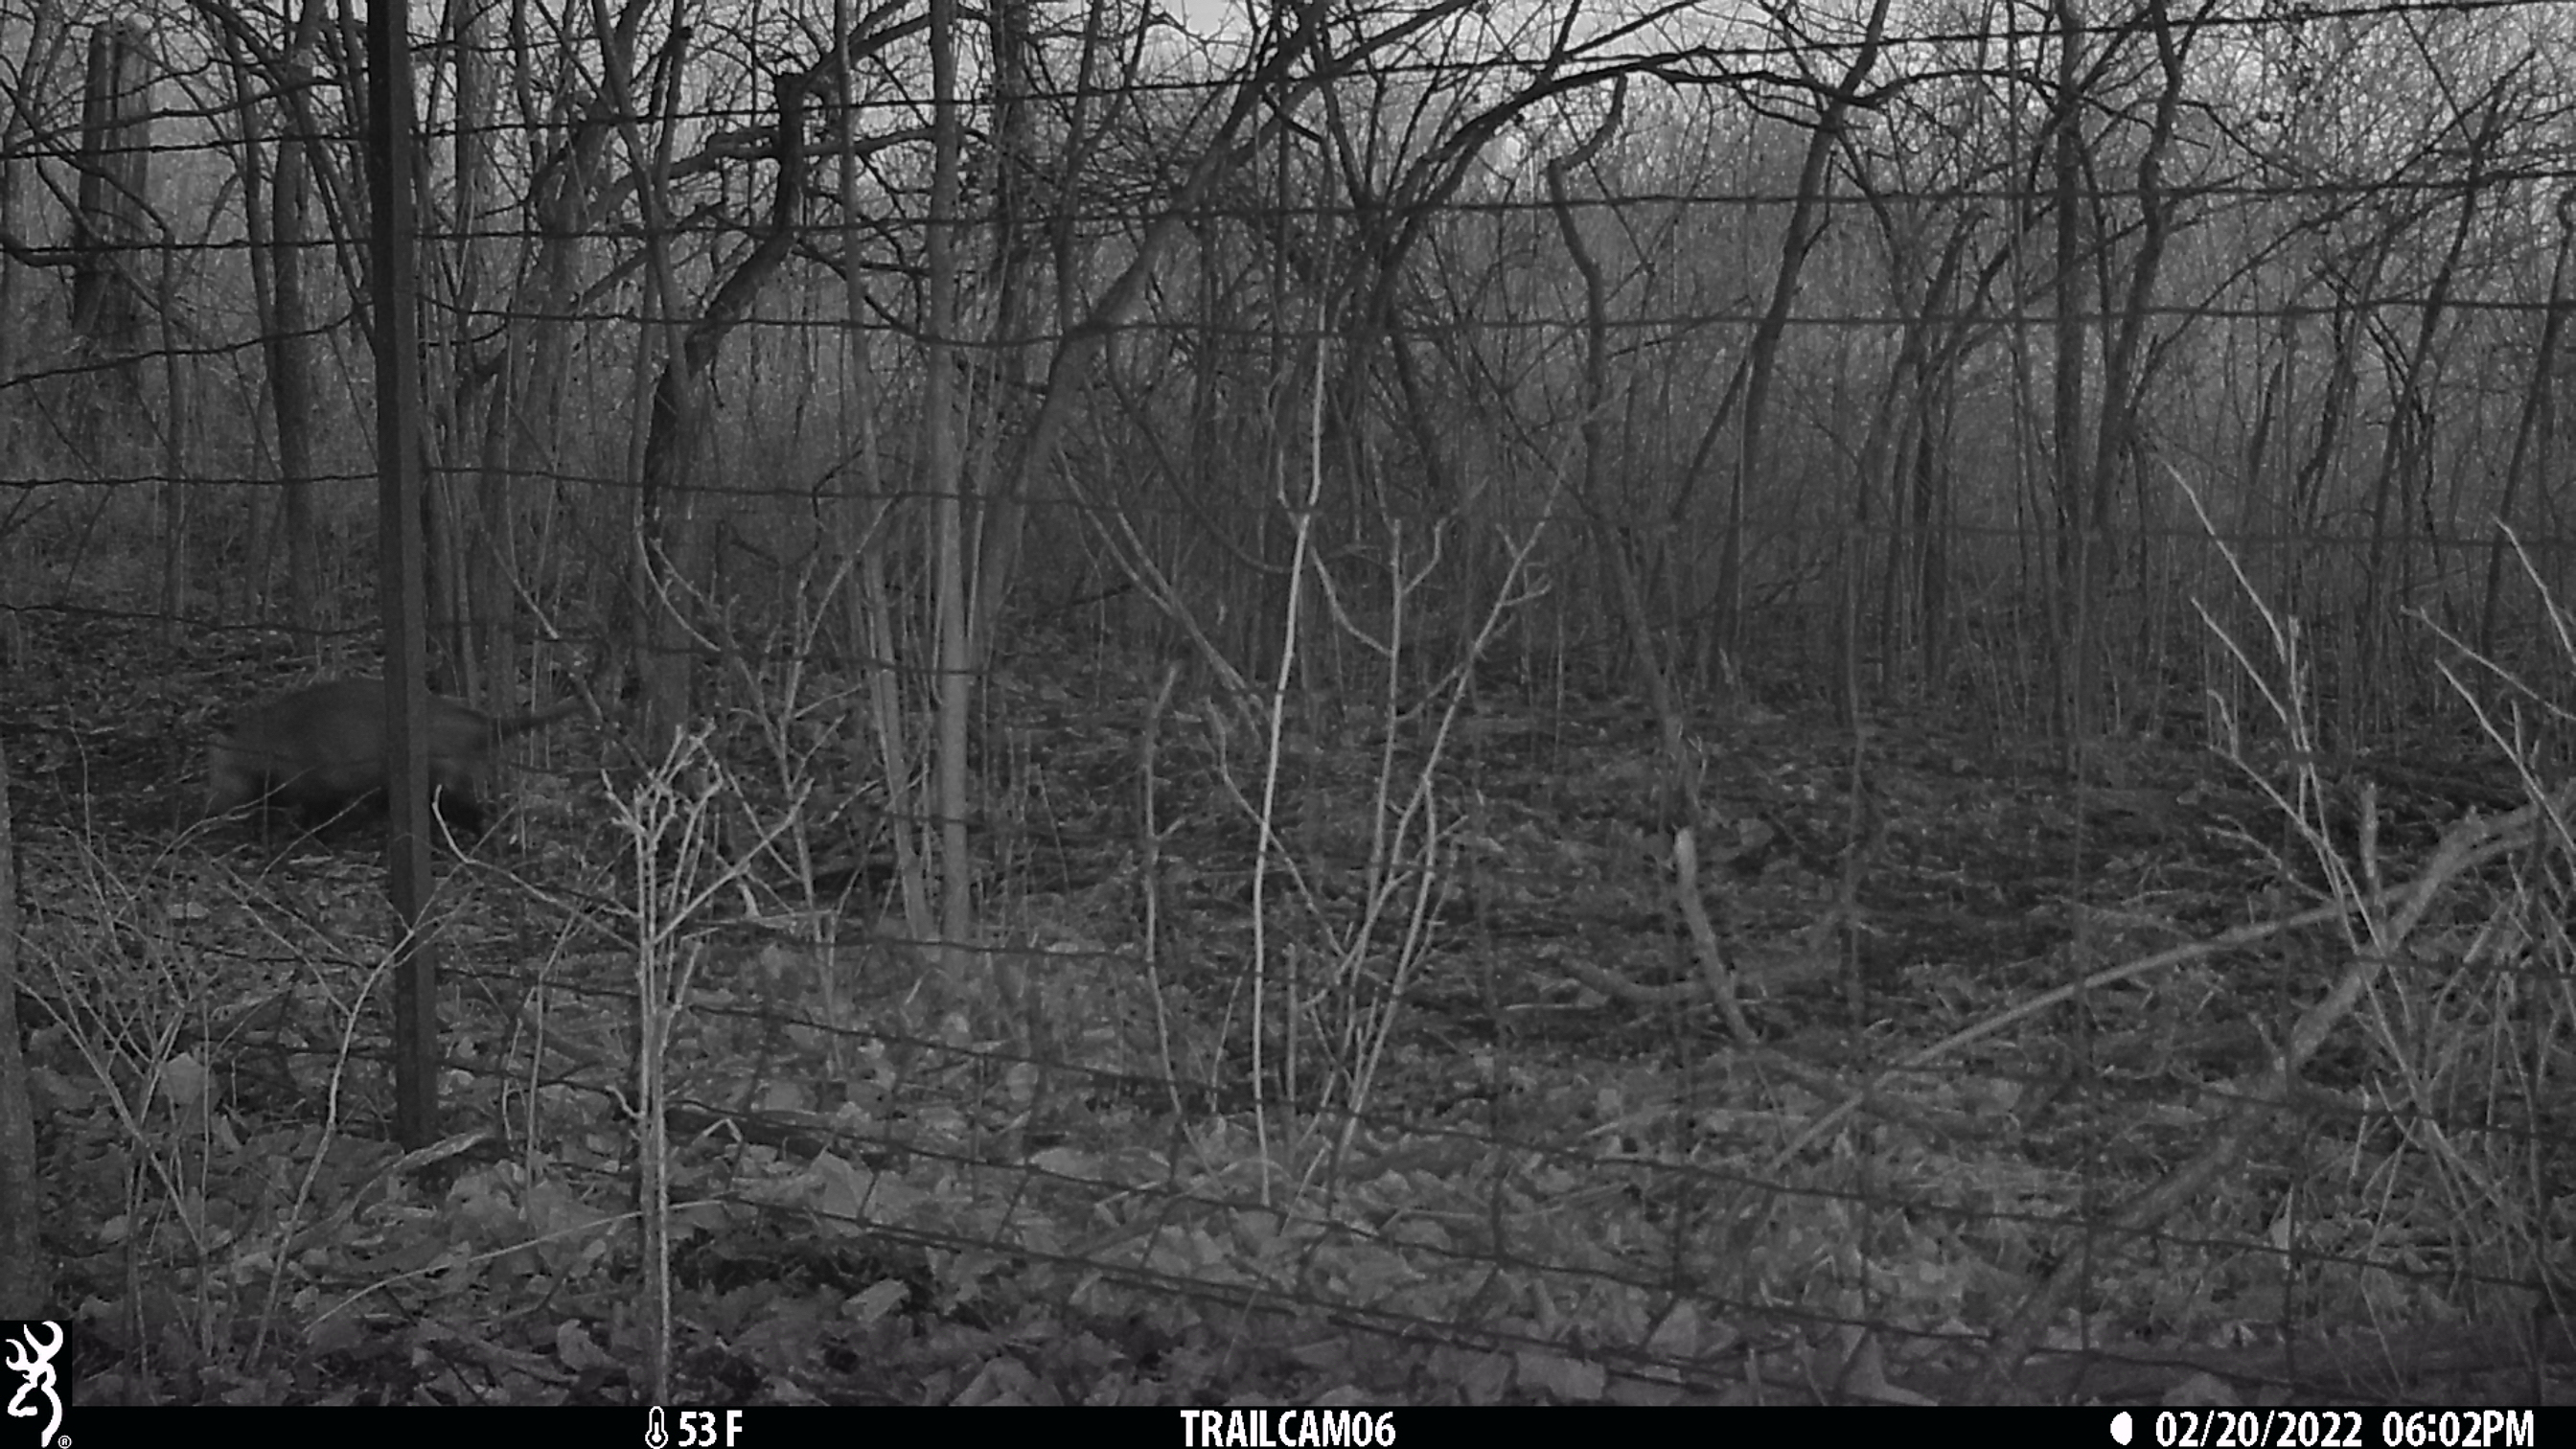Possum: (193, 674, 580, 839)
